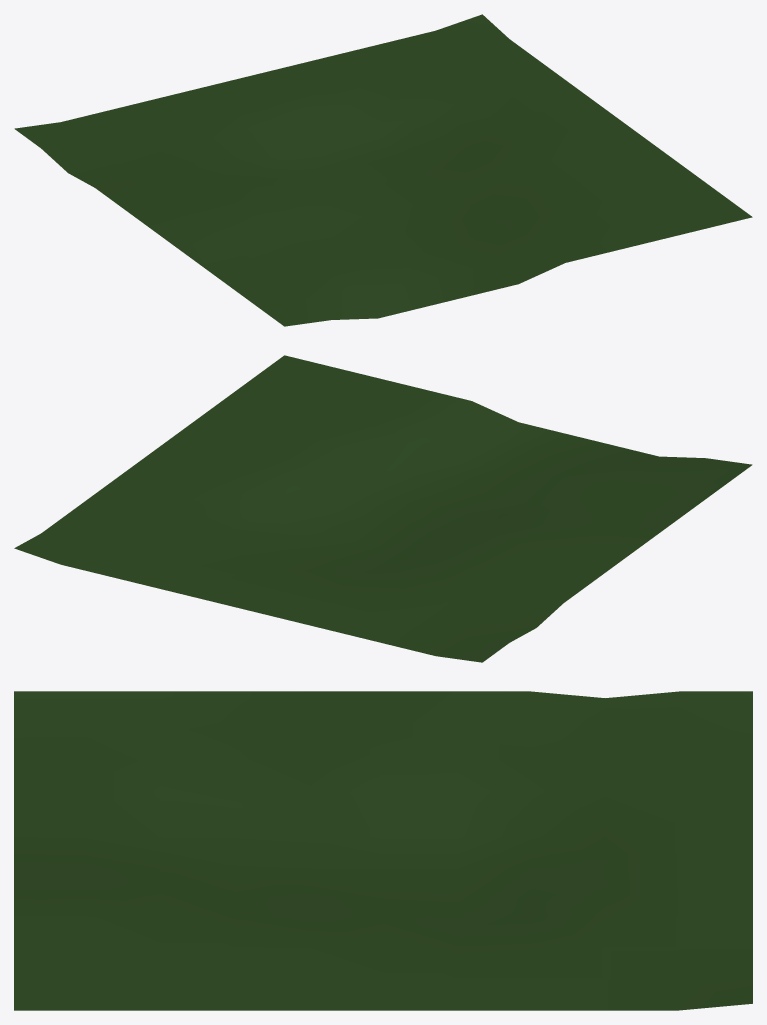
3 views of the same model, one above another, from view 1: azimuth 30°, elevation 25°; view 2: azimuth 150°, elevation 25°; view 3: azimuth 270°, elevation 25° (orthographic). The views are drawn at different scales.
Parts seen in each view (by area): view 1: TerrainModel.064; view 2: TerrainModel.064; view 3: TerrainModel.064.
Boxes of the visible parts, x1,y1,x2,y2 form: TerrainModel.064: (14, 14, 752, 326); TerrainModel.064: (14, 355, 752, 662); TerrainModel.064: (14, 691, 752, 1010).
Bounding box in the file's own units: 19608 × 588 × 19608.
